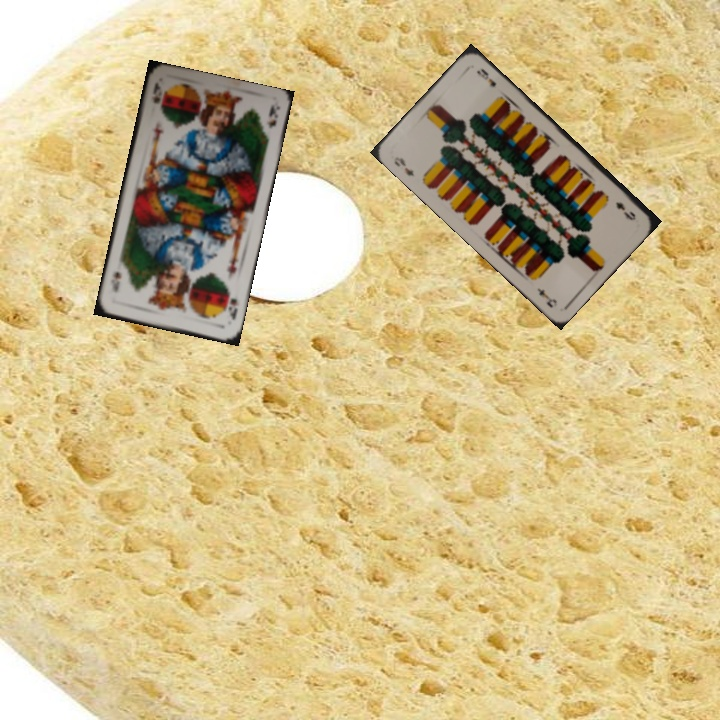E9: (390, 152, 417, 179), (611, 198, 638, 223)
SK: (224, 294, 240, 322), (148, 78, 164, 106)
